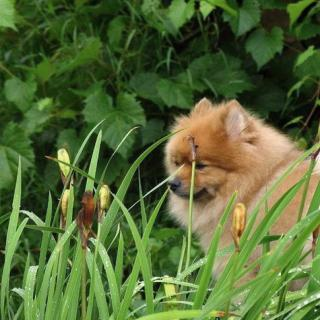dog: (164, 96, 261, 225)
nose: (167, 173, 181, 193)
